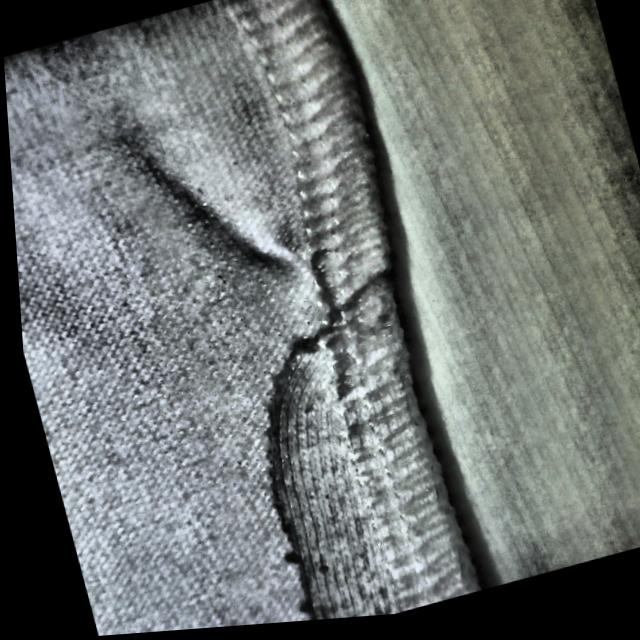seam: (158, 314, 478, 632)
